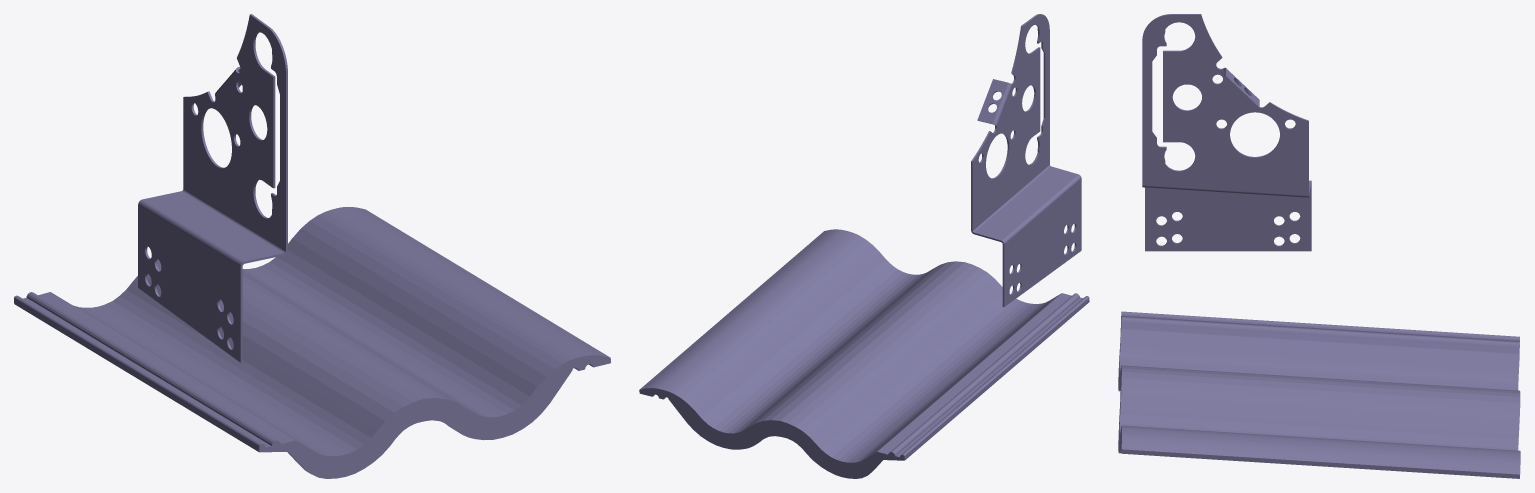
Rendered from Konsol_CWL_V3.glb.
The picture shows the model from 3 angles, left to right: view 1: azimuth 30°, elevation 25°; view 2: azimuth 150°, elevation 25°; view 3: azimuth 270°, elevation 25°; orthographic projection. The views are drawn at different scales.
Visible parts, largest first — view 1: takPanna betong, 420073-1; view 2: takPanna betong, 420073-1; view 3: takPanna betong, 420073-1.
Boxes of the visible parts, x1,y1,x2,y2 form: takPanna betong: [14, 207, 610, 478]; 420073-1: [138, 14, 287, 362]; takPanna betong: [639, 229, 1089, 478]; 420073-1: [971, 14, 1081, 307]; takPanna betong: [1118, 311, 1520, 478]; 420073-1: [1142, 14, 1311, 251].
Bounding box in the file's own units: 0.3407 × 0.4275 × 0.4106.
